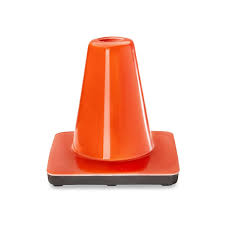cones: (41, 35, 179, 187)
